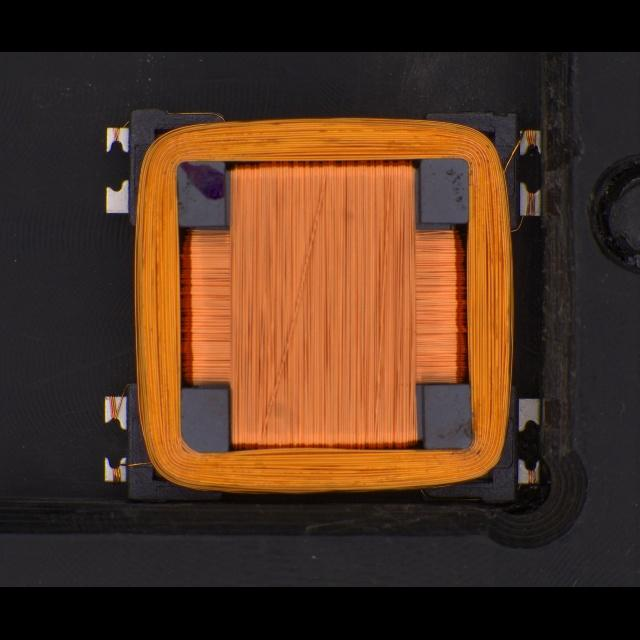Winding_Z: (125, 110, 518, 497)
